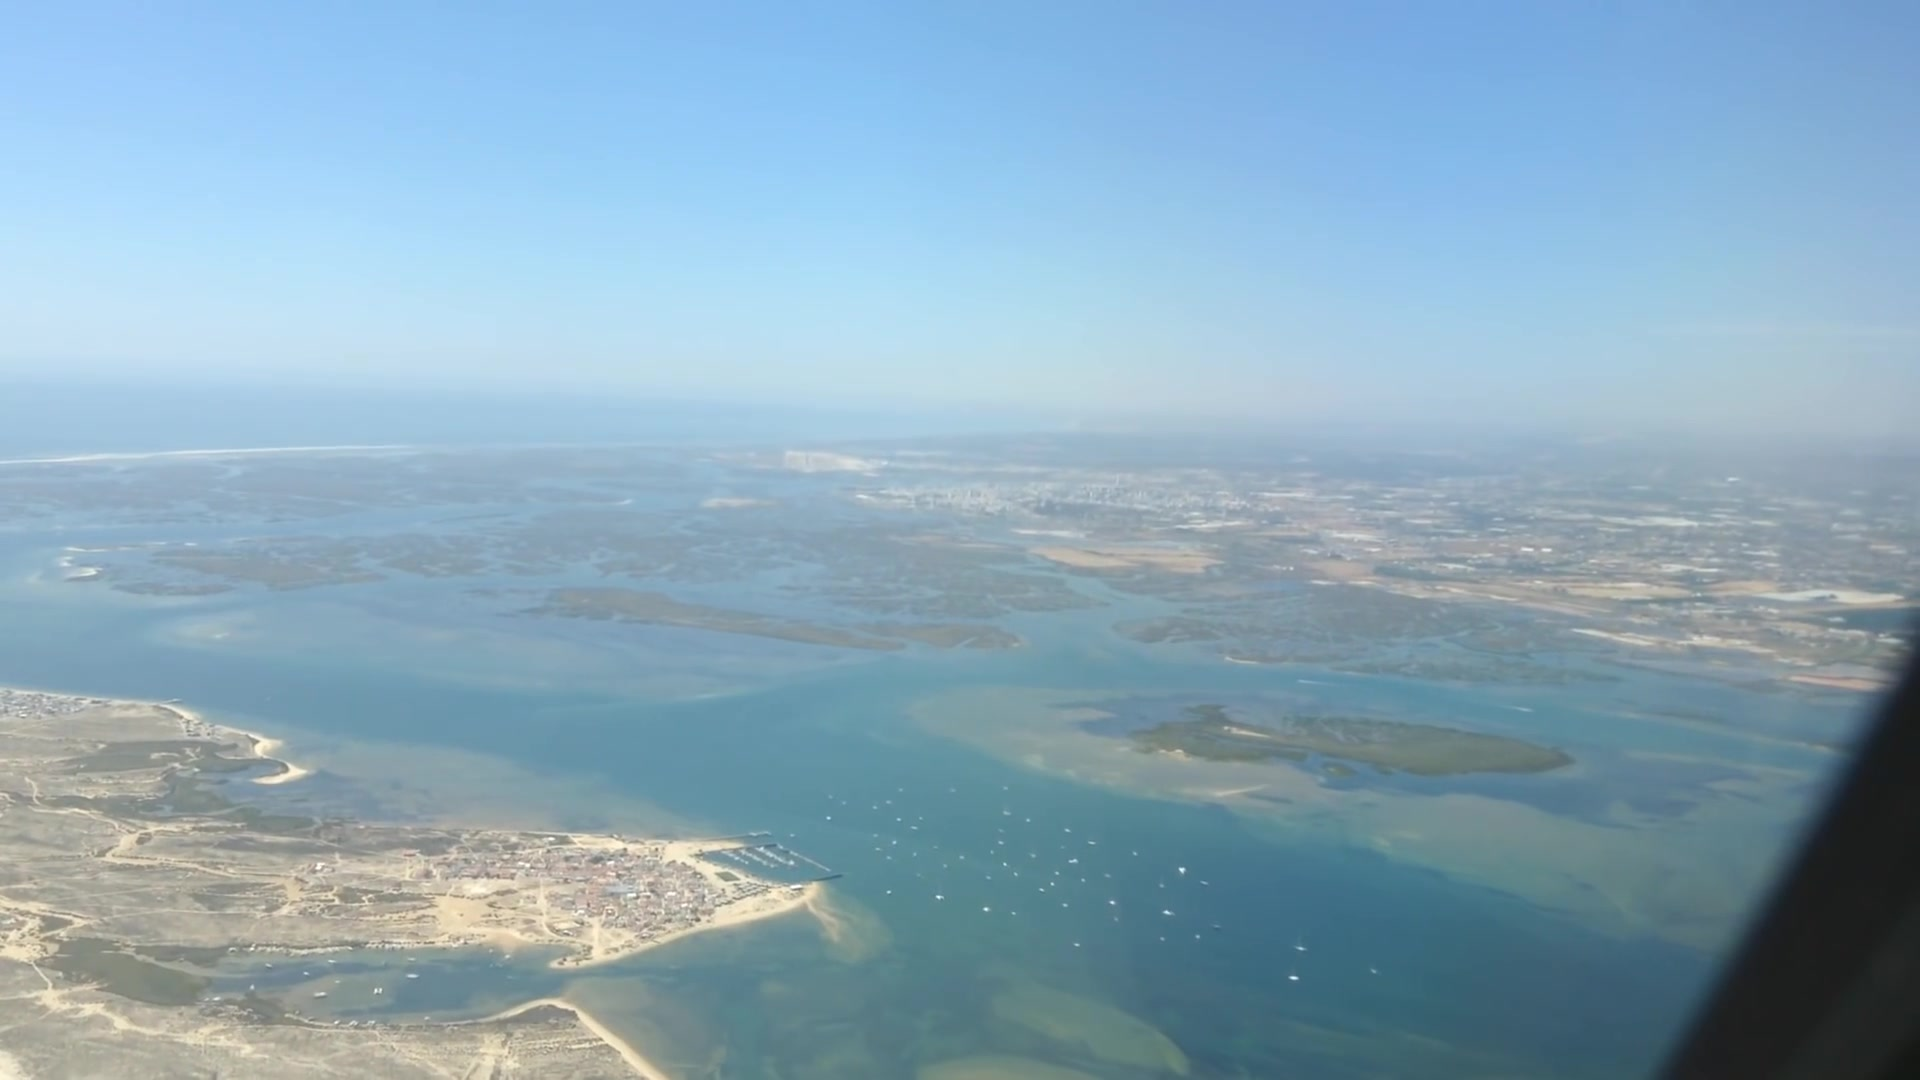runway: (800, 448, 816, 473)
